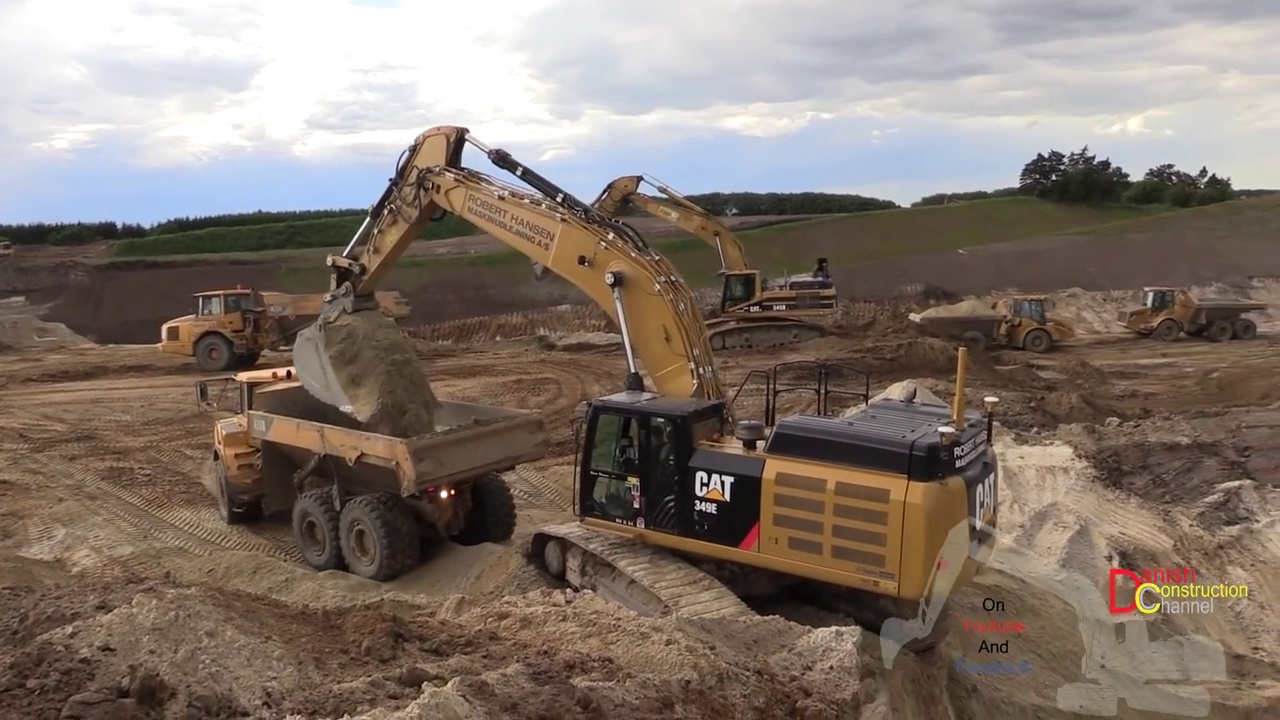dumper: (195, 366, 545, 578), (155, 280, 413, 369), (903, 294, 1078, 353), (1115, 286, 1265, 341)
excavator: (289, 123, 999, 633), (535, 165, 845, 329)
